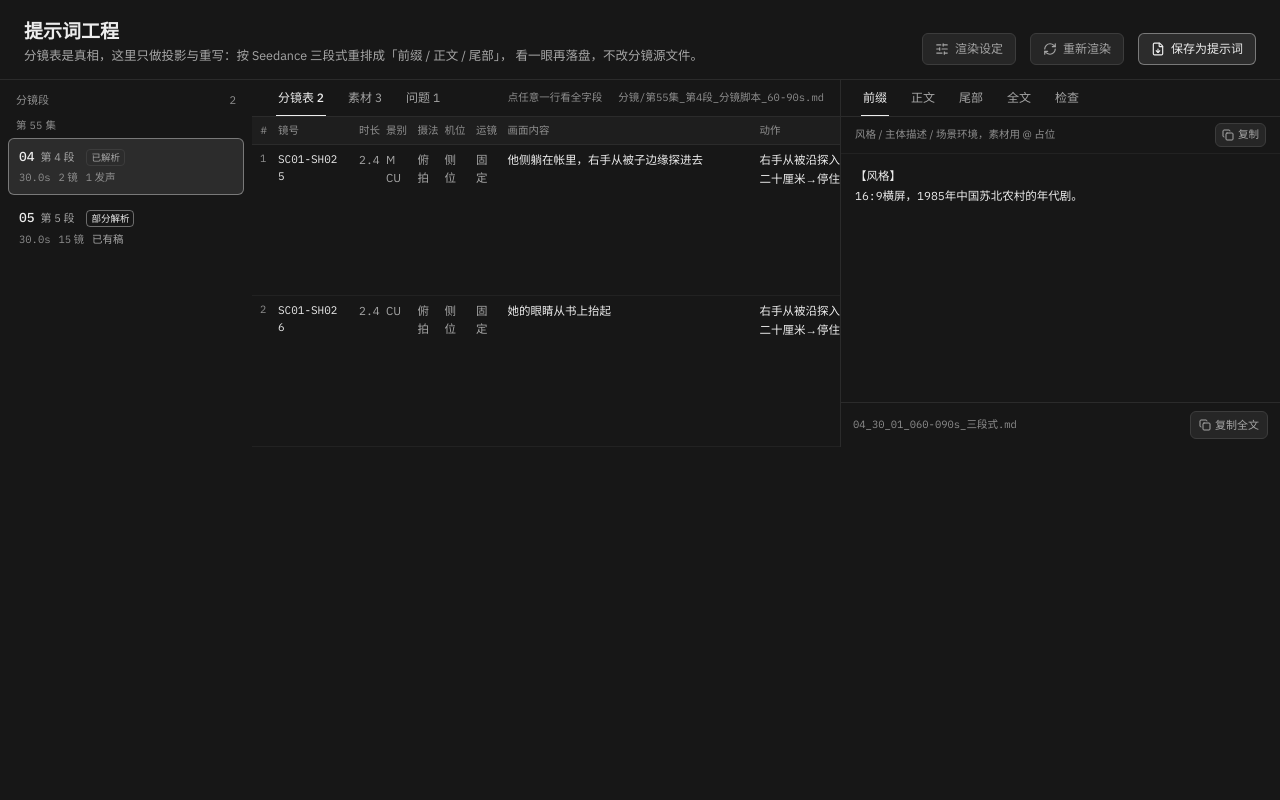
it: 提示词工程三栏 › 弹窗里四张主读卡齐全：画面 / 动作 / 场景状态 / 人物状态
Click the text "SC01-SH025": (308, 159) [270,145,351,296]
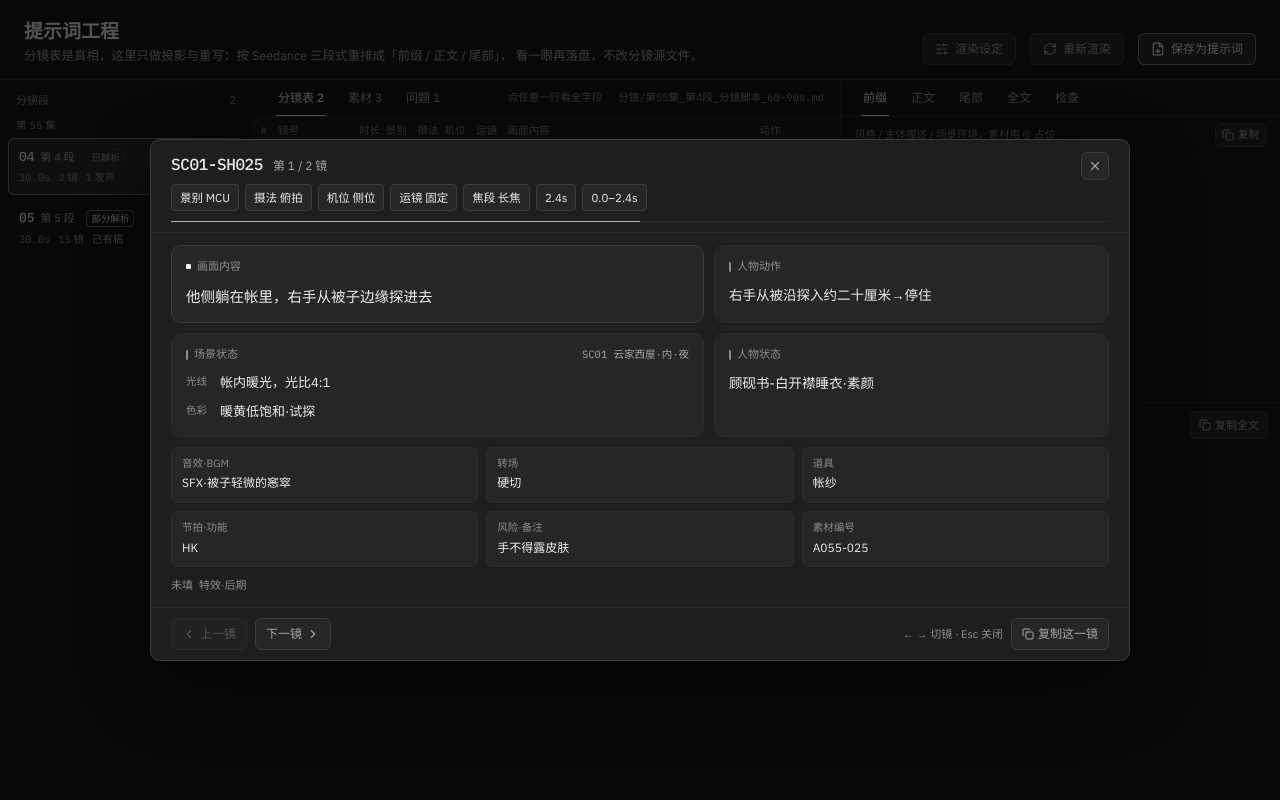
expect the dialog shows "人物动作": met, box [737,259,781,273]
expect the dialog shows "场景状态": met, box [194,347,238,361]
expect the dialog shows "人物状态": met, box [737,347,781,361]
